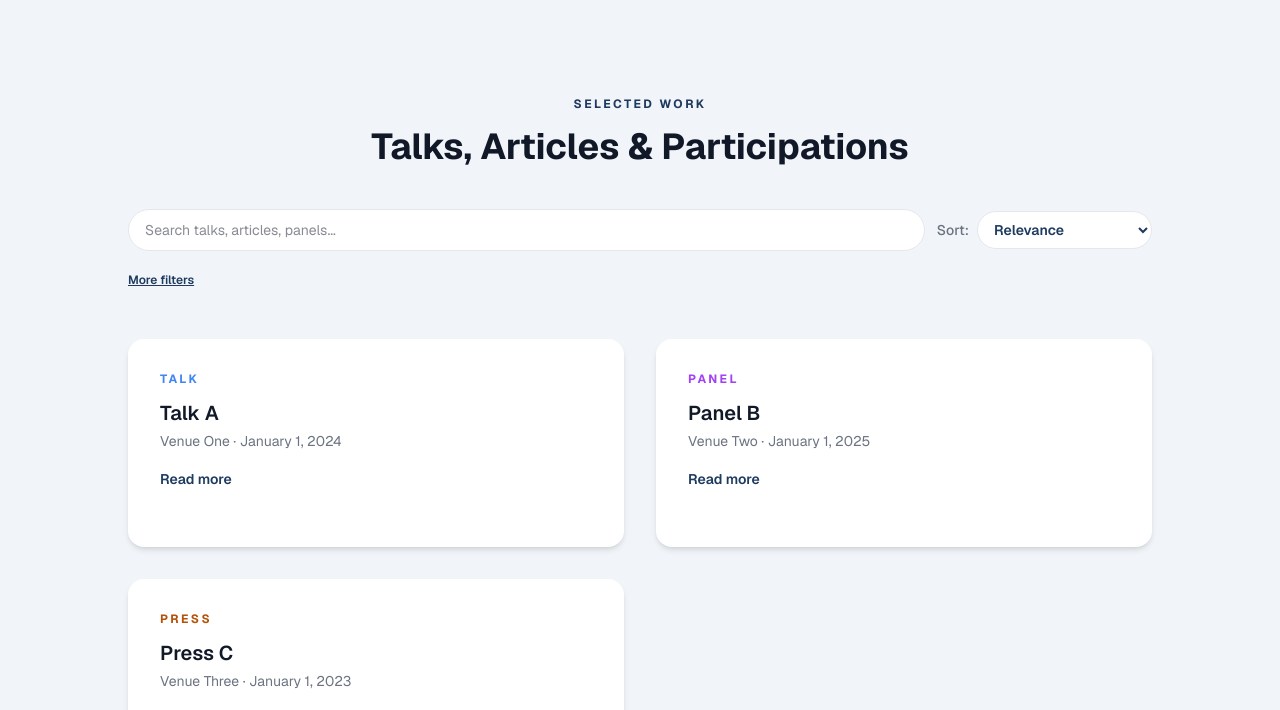
Test: PublicationsExplorer › filters by search query and updates the results count
This screenshot has width=1280, height=710.
Type "press" into the field with placeholder "Search talks, articles, panels..." at (526, 230), box [128,209,925,251]
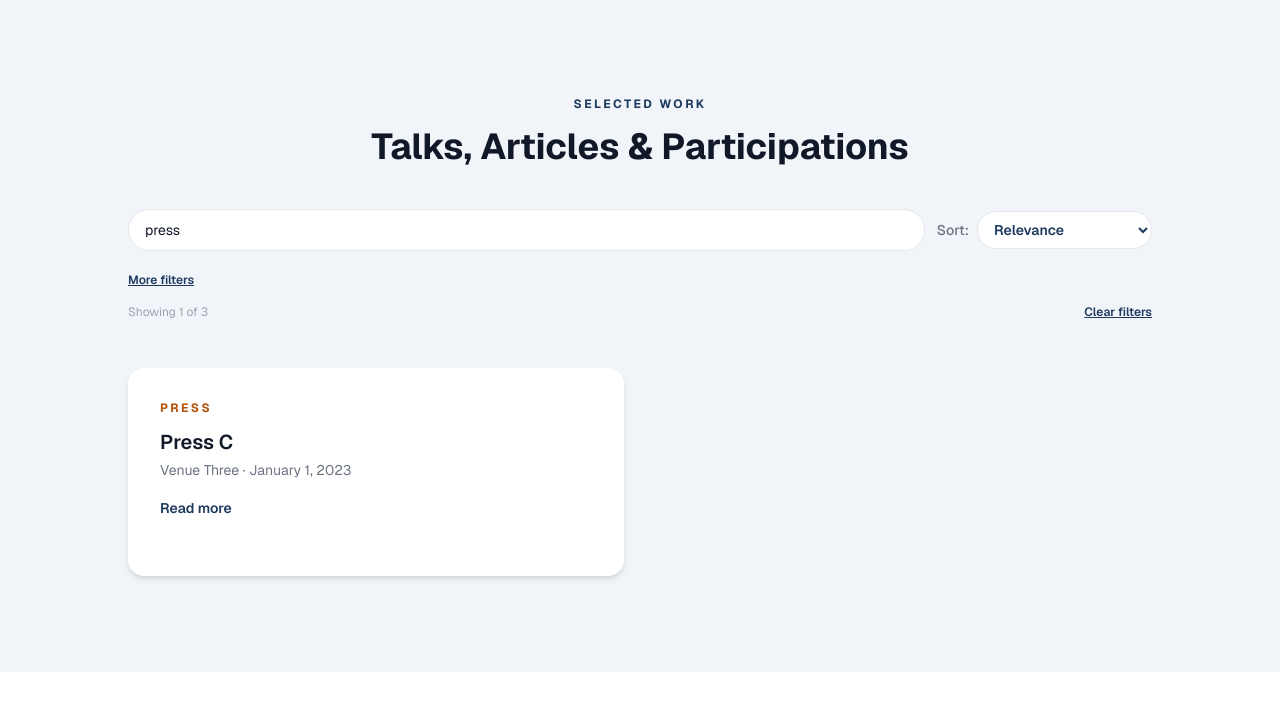
Now the text "Showing 1 of 3" is shown, box [128,304,208,320]
